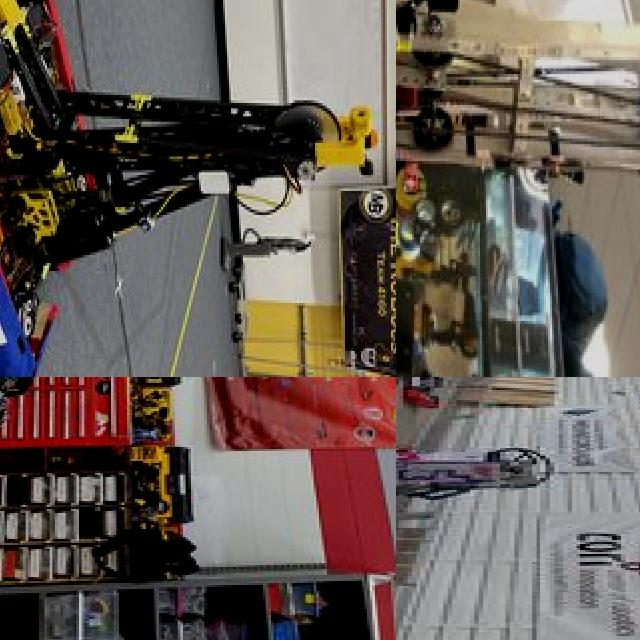FRC-Robots: (0, 0, 396, 377), (396, 0, 640, 377), (0, 377, 360, 463), (396, 422, 583, 540), (396, 377, 461, 423)
